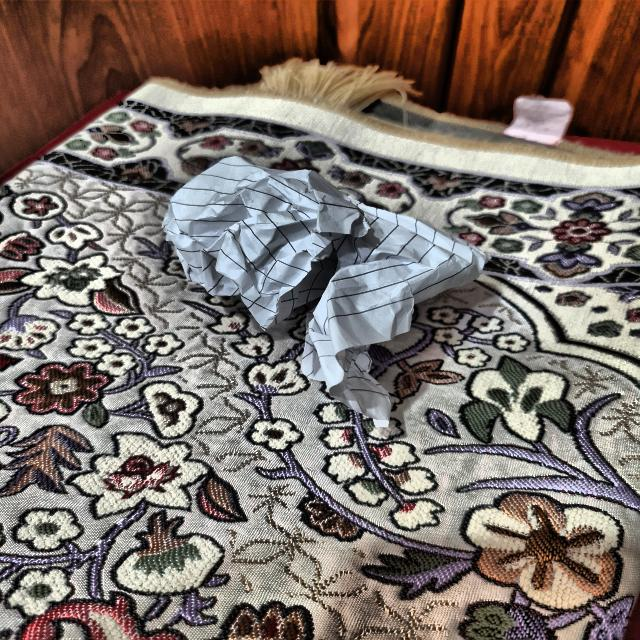Paper: (149, 153, 481, 372)
